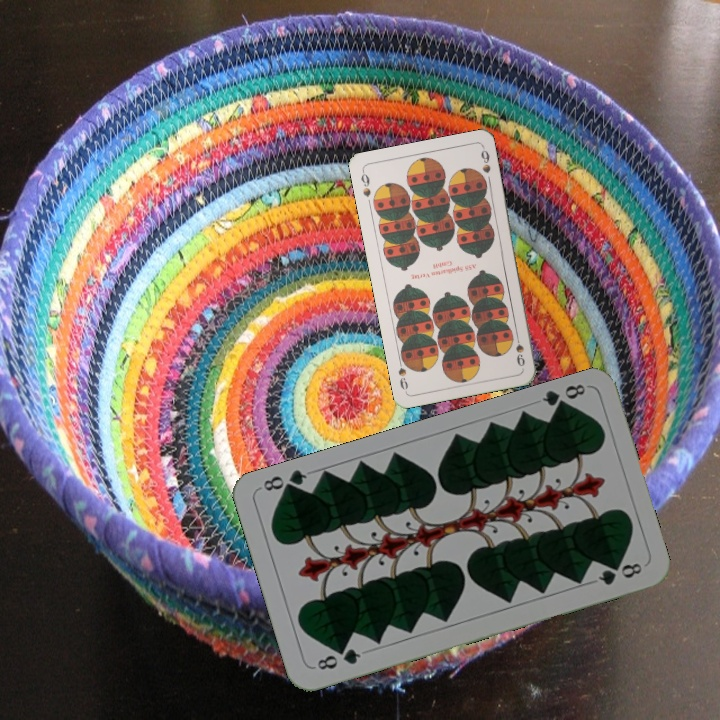G8: (538, 379, 588, 415), (313, 644, 364, 673)
S9: (512, 329, 527, 369), (357, 167, 373, 199)
